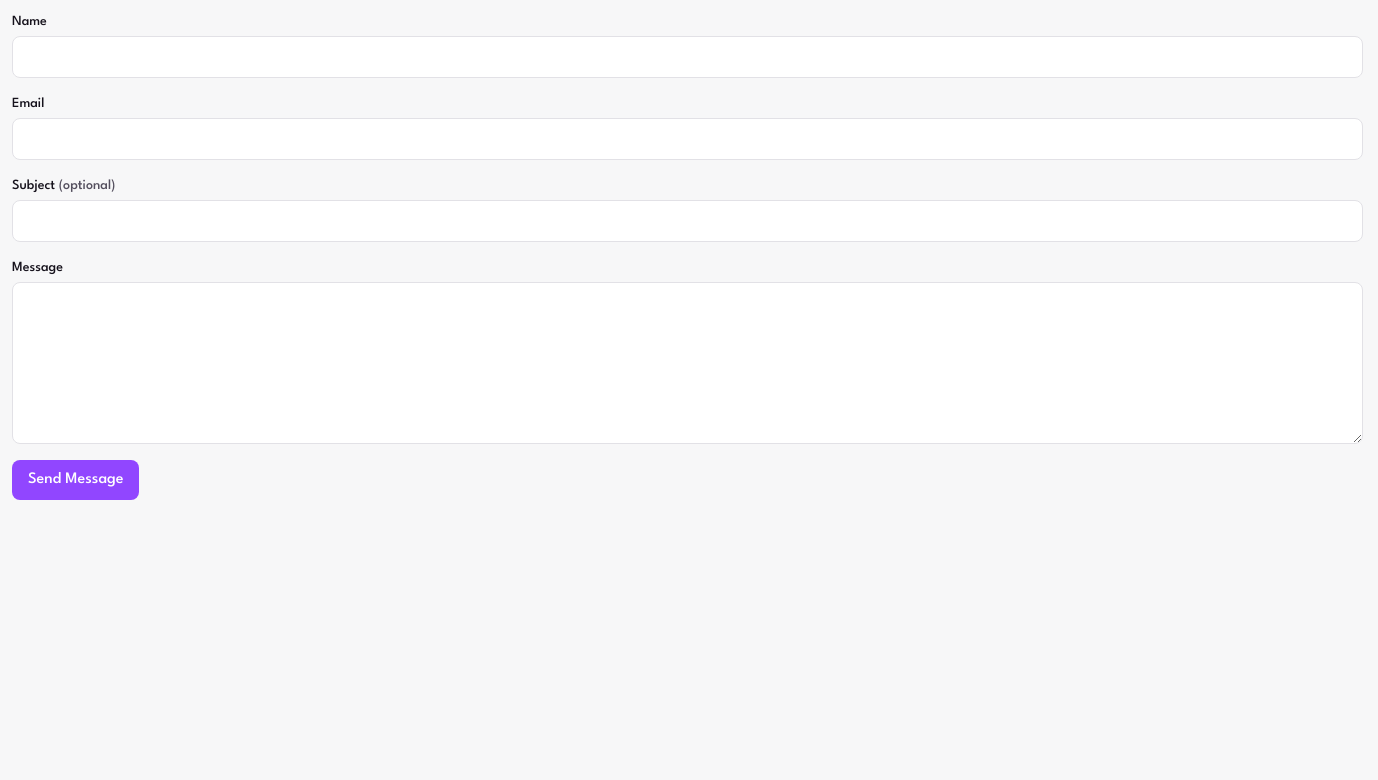
it: ContactForm › shows a generic error message on a non-validation server failure, without clearing the form
Type "Ash Ketchum" into the field labelled "Name".
click(688, 57); type("Ash Ketchum")  # box [12,36,1363,78]
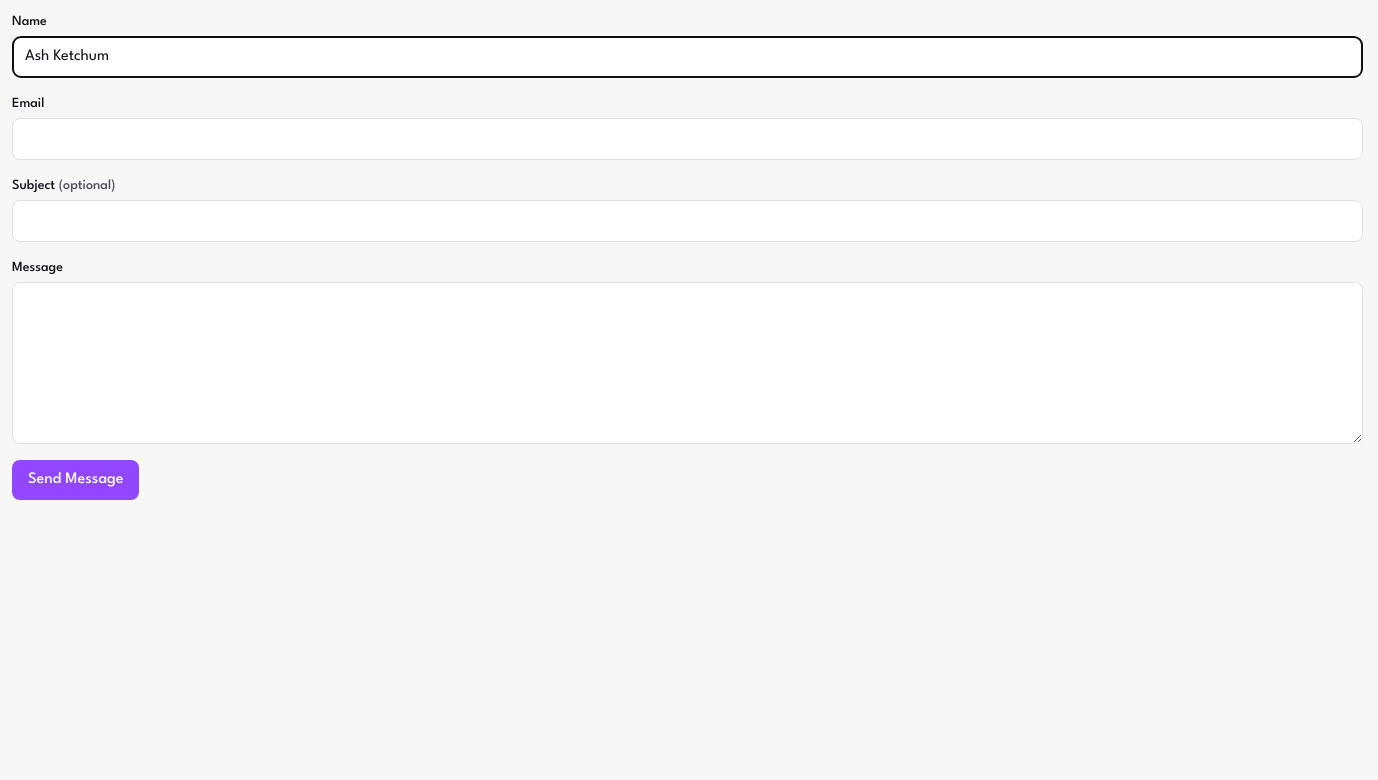
Type "ash@example.com" into the field labelled "Email".
click(688, 139); type("ash@example.com")  # box [12,118,1363,160]
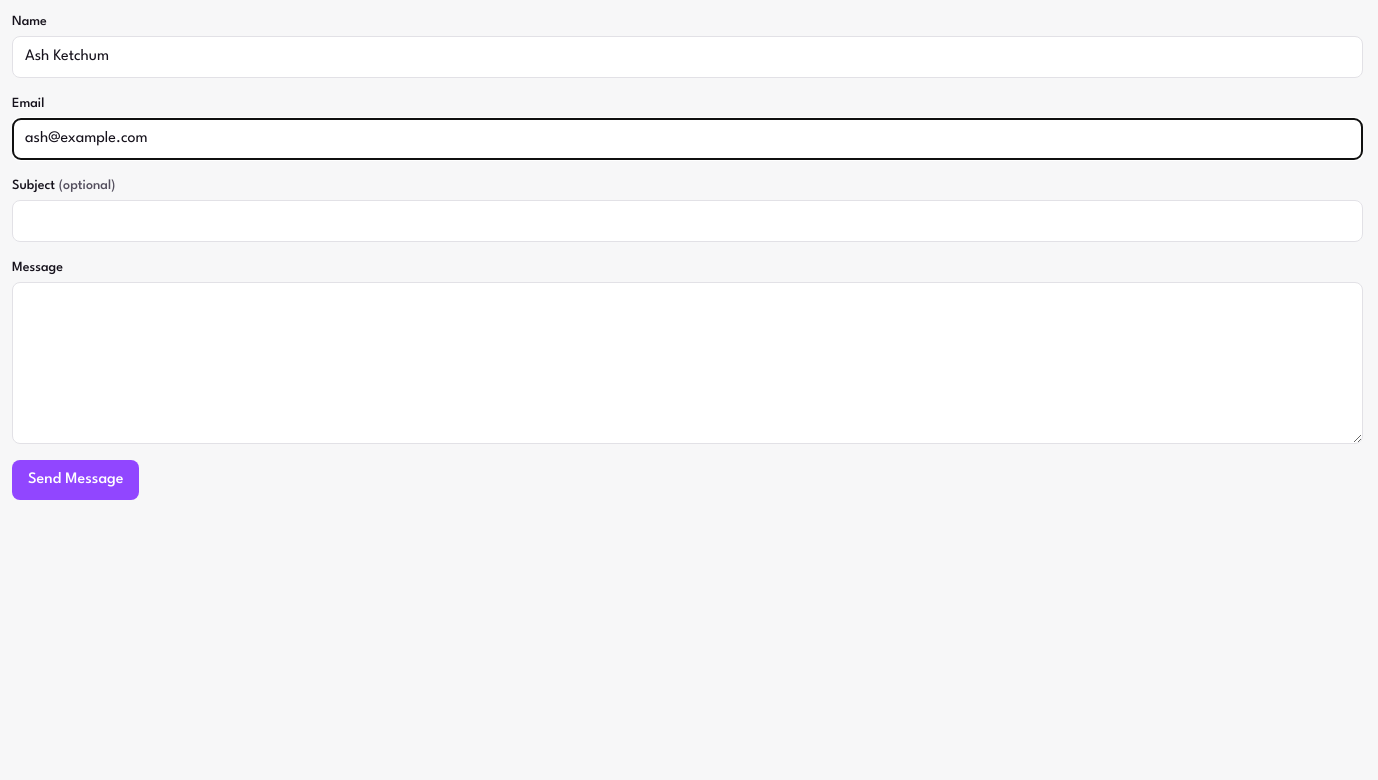
Type "I would like to buy this card, please let me know." into the text box labelled "Message".
click(688, 363); type("I would like to buy this card, please let me know.")  # box [12,282,1363,444]
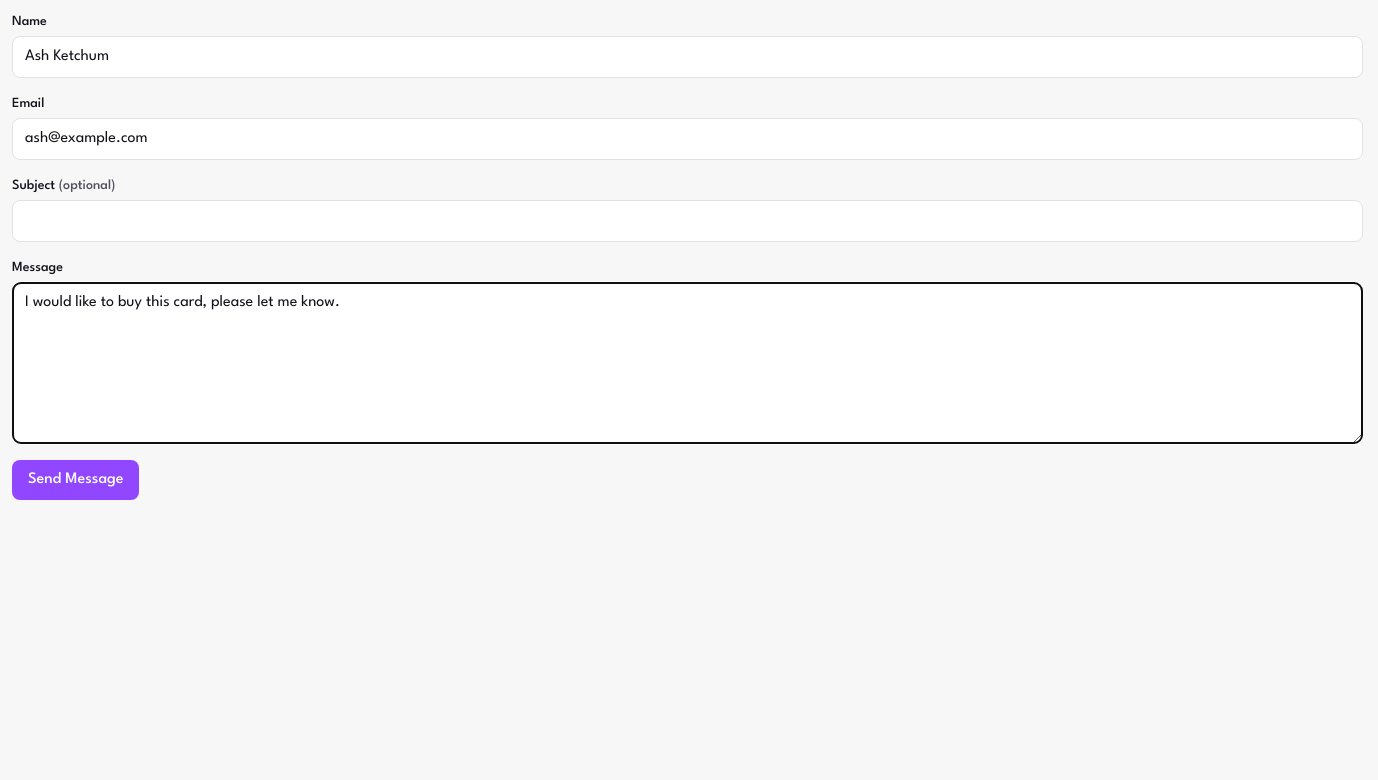
Click the button "Send Message".
click(76, 480)  # box [12,460,140,500]
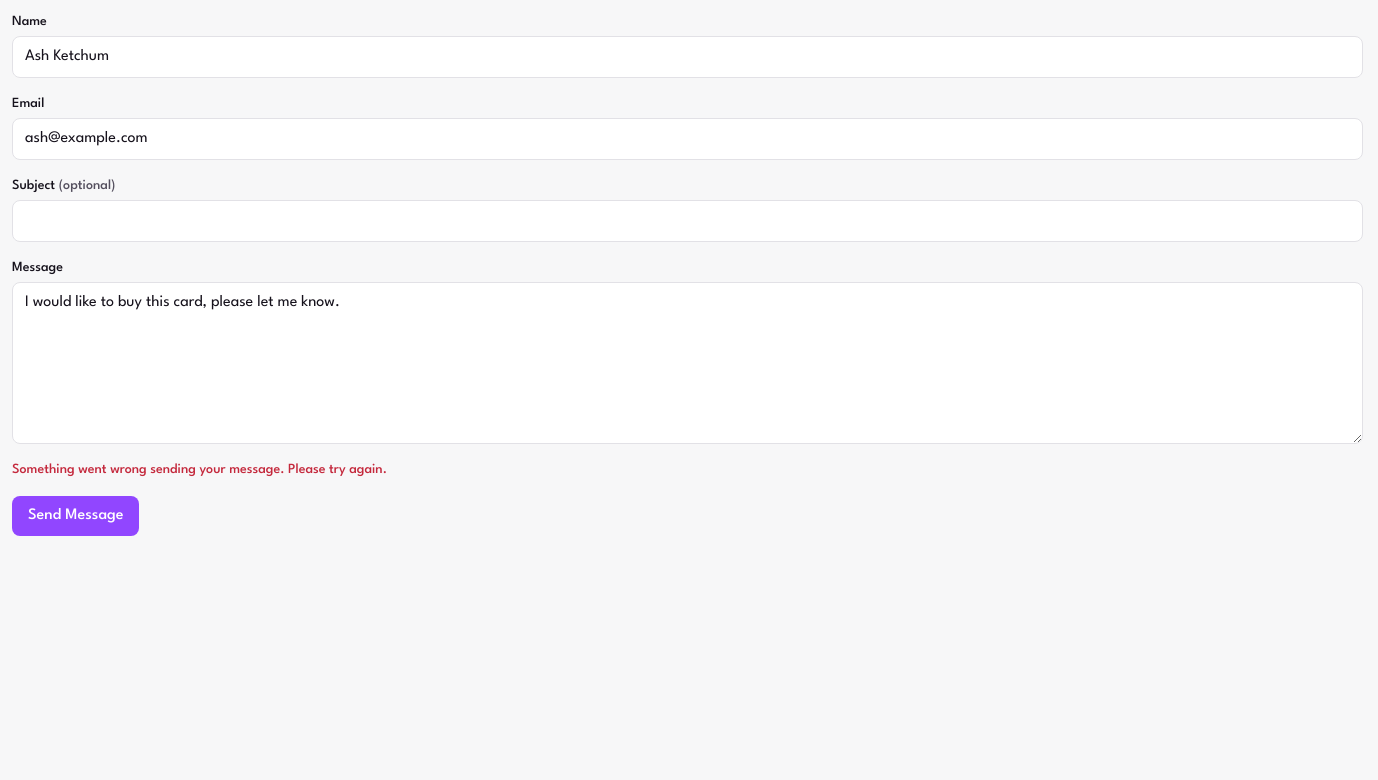
Now the message reads "Something went wrong sending your message. Please try again.", box [12,463,387,476]
